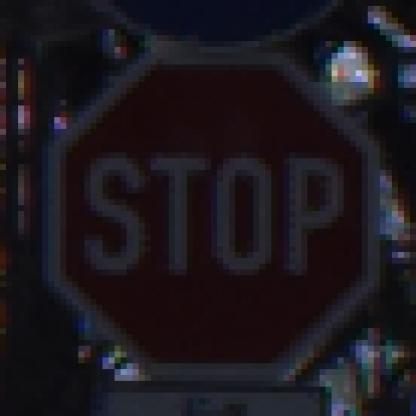stop: (26, 62, 398, 376)
